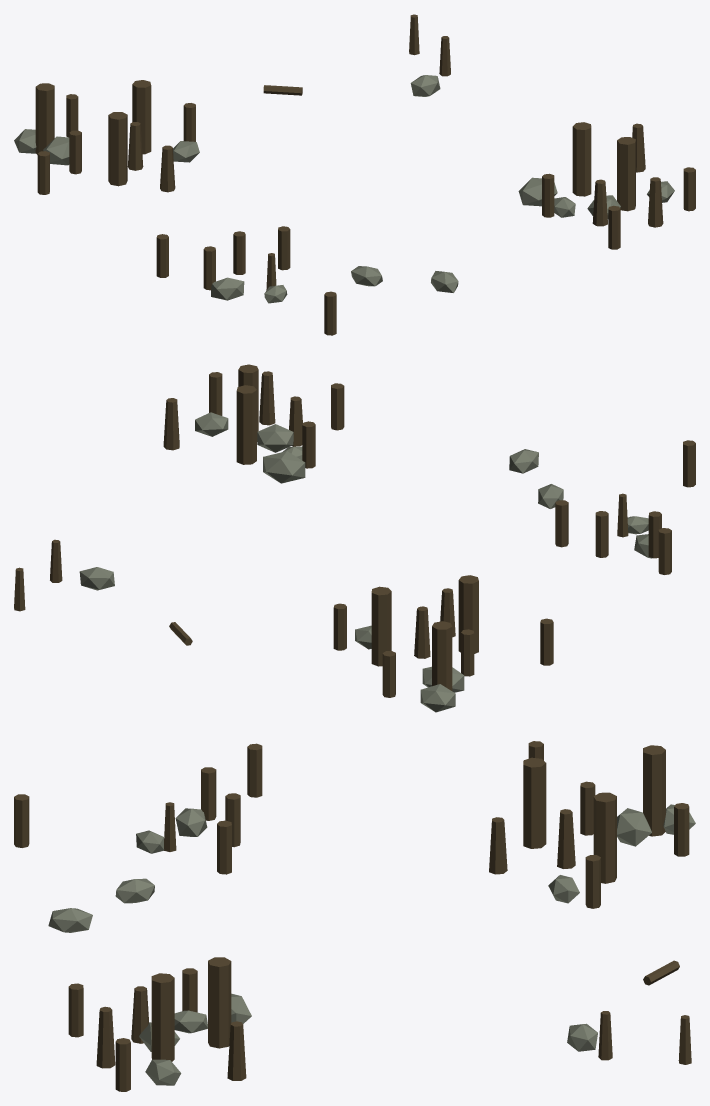
Rendered from shaded_grove_solid_props.fbx.
The picture shows the model from 3 angles, top to bottom: view 1: azimuth 30°, elevation 25°; view 2: azimuth 150°, elevation 25°; view 3: azimuth 270°, elevation 25°; orthographic projection. The views are drawn at different scales.
Visible parts, largest first — view 1: chunk_shaded_grove__PropsSolid; view 2: chunk_shaded_grove__PropsSolid; view 3: chunk_shaded_grove__PropsSolid.
Part boxes in pixels (left/top/right/bottom): chunk_shaded_grove__PropsSolid: left=14, top=14, right=695, bottom=335; chunk_shaded_grove__PropsSolid: left=14, top=364, right=695, bottom=712; chunk_shaded_grove__PropsSolid: left=14, top=741, right=695, bottom=1091.
Bounding box in the file's own units: 184 × 27.87 × 182.
